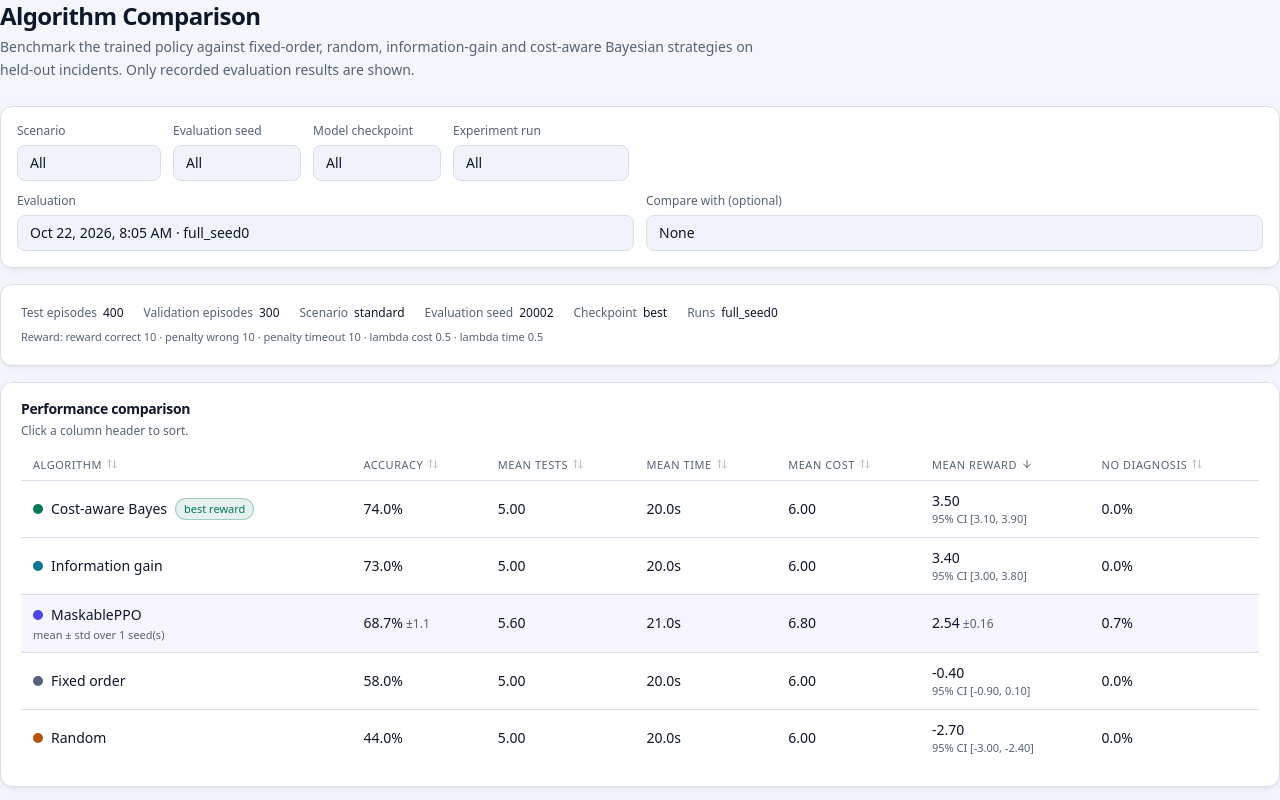
Test: Comparison › warns when two evaluations are not configured equivalently
Expected: the table named "Performance comparison" is shown, [21,448,1259,766]
Select "Oct 22, 2026, 8:05 AM · full_seed0" in the dropdown labelled "Compare with" at (954, 232), box [646,214,1263,250]
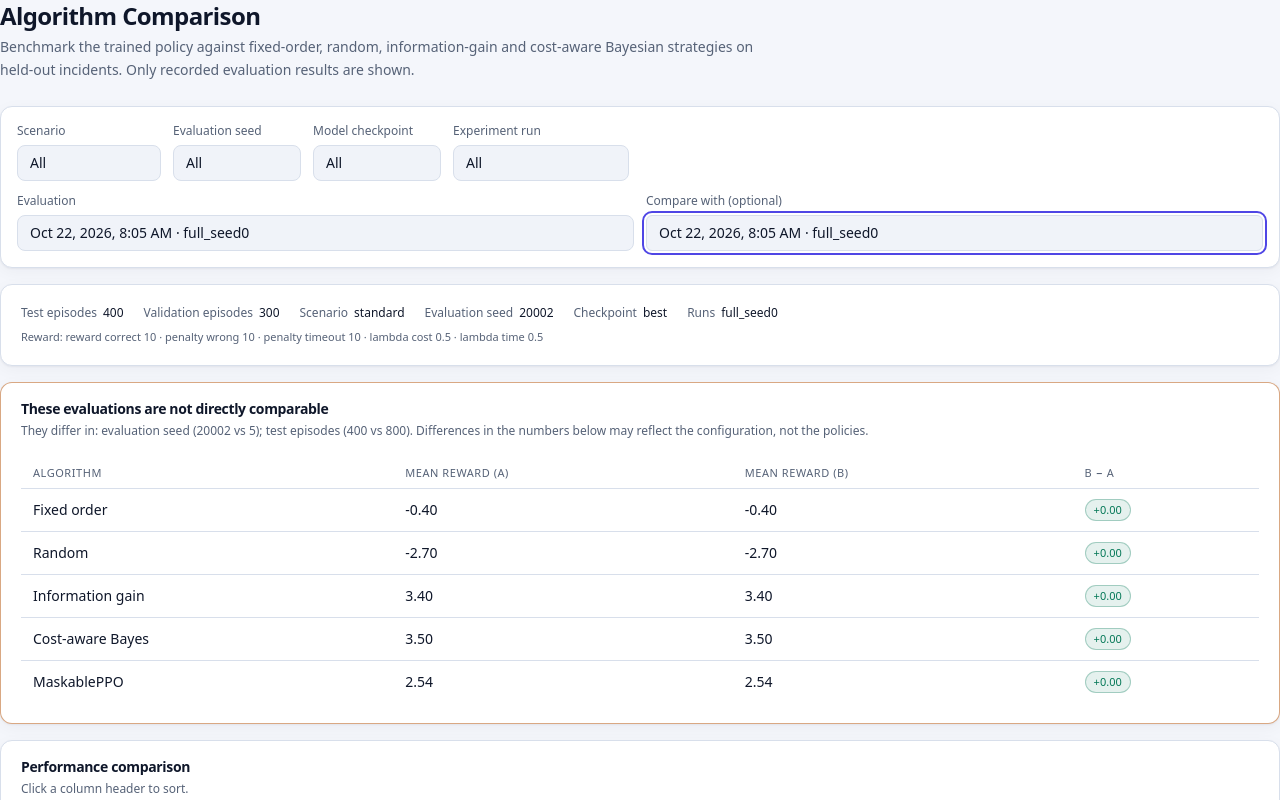
Result: the heading "These evaluations are not directly comparable" is shown at [21,399,328,418]
Result: the text "evaluation seed (20002 vs 5)" is shown at [21,422,868,439]
